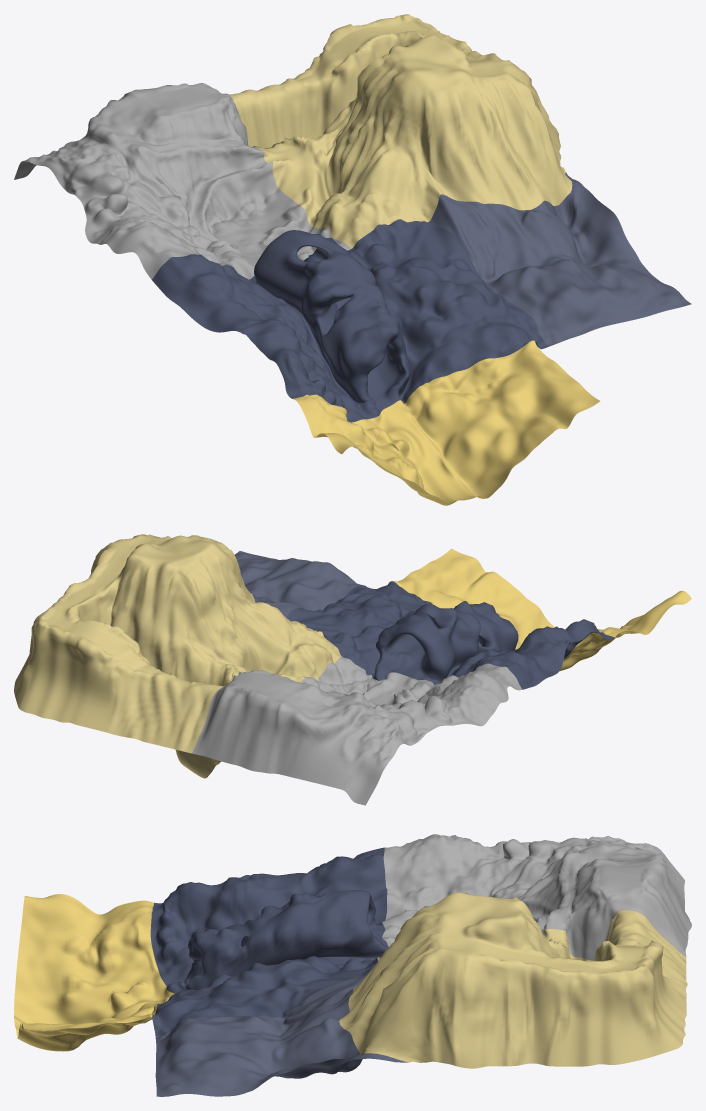
The model's file is terrain 1.fbx.
The picture shows the model from 3 angles, top to bottom: view 1: azimuth 30°, elevation 25°; view 2: azimuth 150°, elevation 25°; view 3: azimuth 270°, elevation 25°; orthographic projection. The views are drawn at different scales.
Visible parts, largest first — view 1: polySurface261, polySurface262, polySurface260, polySurface256, polySurface263; view 2: polySurface261, polySurface260, polySurface262, polySurface256, polySurface263; view 3: polySurface261, polySurface262, polySurface260, polySurface256, polySurface263.
Boxes of the visible parts, bbox=[...] form: polySurface261: bbox=[230, 14, 600, 401]; polySurface262: bbox=[152, 219, 548, 422]; polySurface260: bbox=[14, 83, 351, 279]; polySurface256: bbox=[293, 340, 598, 505]; polySurface263: bbox=[428, 172, 691, 346]; polySurface261: bbox=[14, 534, 452, 778]; polySurface260: bbox=[191, 656, 522, 805]; polySurface262: bbox=[286, 581, 614, 689]; polySurface256: bbox=[391, 549, 691, 671]; polySurface263: bbox=[234, 551, 370, 617]; polySurface261: bbox=[26, 892, 687, 1068]; polySurface262: bbox=[150, 847, 388, 1035]; polySurface260: bbox=[382, 834, 691, 960]; polySurface256: bbox=[14, 894, 174, 1051]; polySurface263: bbox=[155, 975, 407, 1096].
Bounding box in the file's own units: 31787 × 15763 × 42286.
